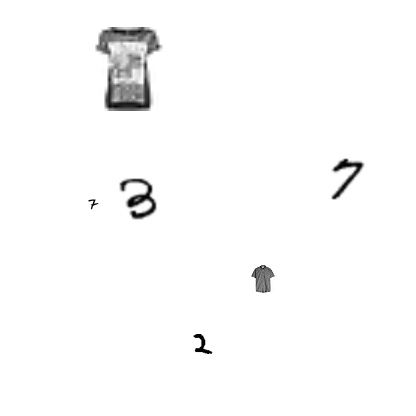2: (187, 330, 215, 358)
3: (110, 171, 166, 227)
7: (318, 145, 374, 201), (86, 196, 100, 210)
Shirt: (249, 265, 277, 293)
T-shirt/top: (87, 27, 171, 111)
